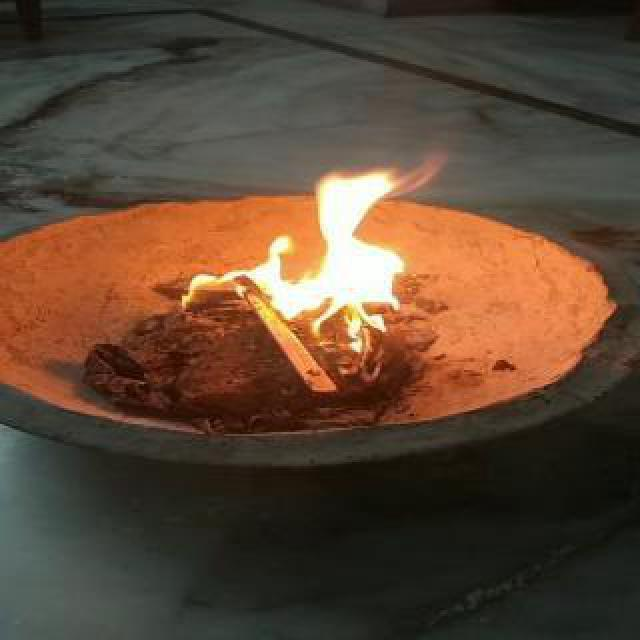Fire: (170, 146, 462, 344)
